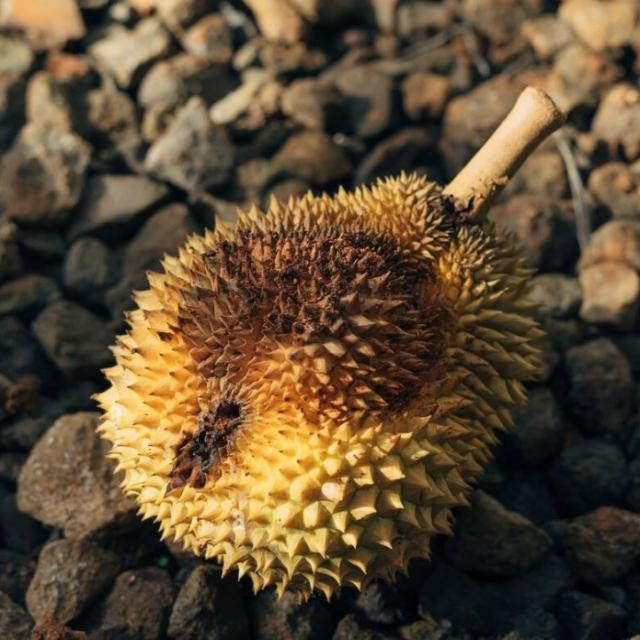defective: (102, 174, 546, 604)
